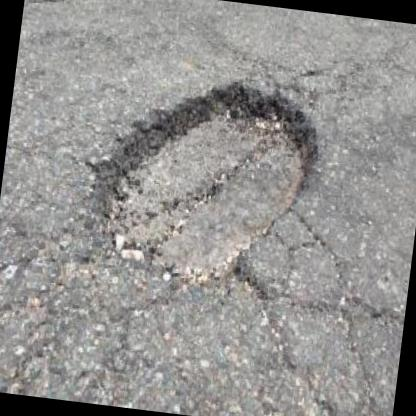pothole: (76, 60, 328, 301)
